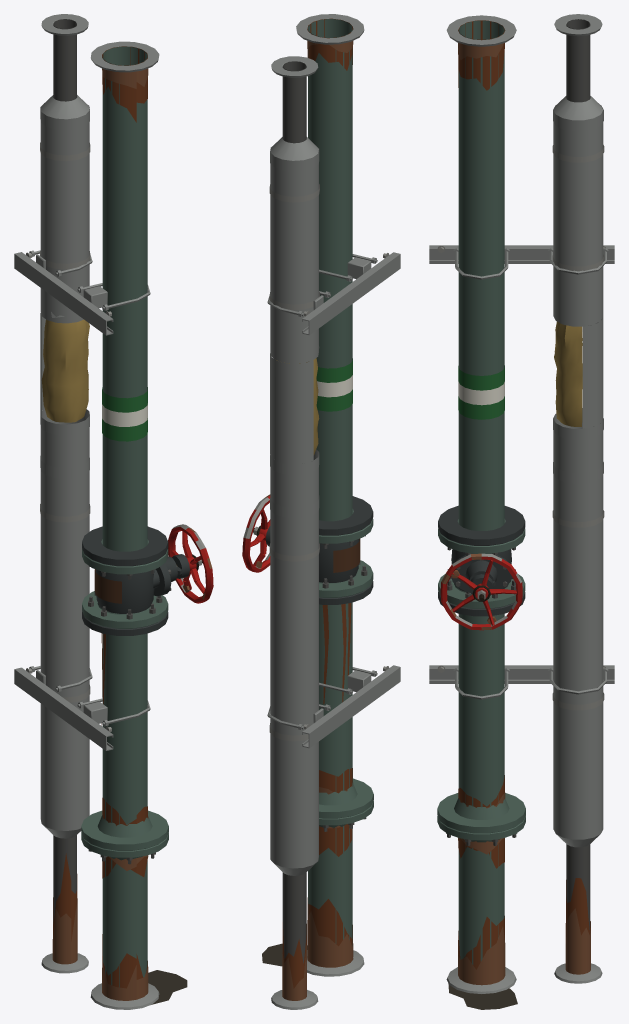
Rendered from pipe_riser.glb.
3 views of the same model, side by side, from view 1: azimuth 30°, elevation 25°; view 2: azimuth 150°, elevation 25°; view 3: azimuth 270°, elevation 25° (orthographic).
Parts seen in each view (by area): view 1: steigleitung0, steigleitung12, steigleitung14, steigleitung3, steigleitung13, steigleitung11, steigleitung1, steigleitung8, steigleitung7, steigleitung5, steigleitung9, steigleitung15 (+2 smaller); view 2: steigleitung12, steigleitung0, steigleitung14, steigleitung11, steigleitung1, steigleitung8, steigleitung3, steigleitung5, steigleitung9, steigleitung7, steigleitung4, steigleitung10 (+2 smaller); view 3: steigleitung0, steigleitung12, steigleitung14, steigleitung8, steigleitung3, steigleitung11, steigleitung1, steigleitung13, steigleitung7, steigleitung5, steigleitung9, steigleitung15 (+1 smaller).
Part boxes in pixels (box(x1,y1,x2,y2)): steigleitung0: box(81, 46, 168, 987); steigleitung12: box(40, 95, 89, 838); steigleitung14: box(14, 14, 159, 1009); steigleitung3: box(82, 526, 189, 635); steigleitung13: box(41, 319, 89, 422); steigleitung11: box(53, 46, 147, 988); steigleitung1: box(53, 19, 171, 923); steigleitung8: box(52, 46, 212, 1000); steigleitung7: box(168, 526, 213, 603); steigleitung5: box(26, 142, 205, 731); steigleitung9: box(102, 387, 147, 441); steigleitung15: box(148, 970, 187, 1004); steigleitung12: box(270, 137, 319, 875); steigleitung0: box(308, 19, 373, 946); steigleitung14: box(267, 14, 400, 1009); steigleitung11: box(282, 18, 352, 988); steigleitung1: box(282, 61, 367, 963); steigleitung8: box(256, 18, 353, 1000); steigleitung3: box(265, 496, 373, 604); steigleitung5: box(243, 184, 389, 741); steigleitung9: box(316, 358, 352, 411); steigleitung7: box(242, 496, 270, 572); steigleitung4: box(333, 538, 360, 572); steigleitung10: box(317, 375, 352, 397); steigleitung0: box(437, 20, 525, 964); steigleitung12: box(553, 96, 603, 847); steigleitung14: box(429, 14, 614, 993); steigleitung8: box(441, 20, 590, 985); steigleitung3: box(438, 505, 525, 616); steigleitung11: box(458, 20, 590, 969); steigleitung1: box(446, 19, 590, 929); steigleitung13: box(554, 321, 582, 426); steigleitung7: box(440, 556, 522, 630); steigleitung5: box(437, 145, 605, 710); steigleitung9: box(458, 365, 504, 419); steigleitung15: box(448, 983, 517, 1009).
Bounding box in the file's own units: 0.3656 × 2.6 × 0.46.
